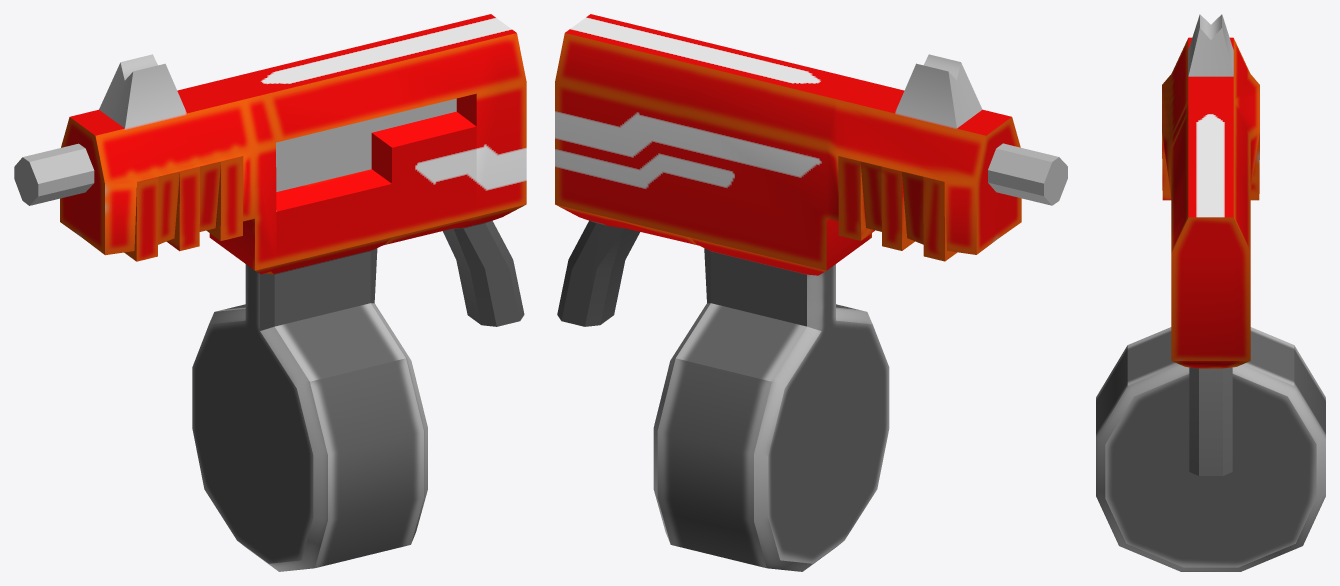
Rendered from Nerf.fbx.
3 views of the same model, side by side, from view 1: azimuth 30°, elevation 25°; view 2: azimuth 150°, elevation 25°; view 3: azimuth 270°, elevation 25° (orthographic). The views are drawn at different scales.
Visible parts, largest first — view 1: pCube2; view 2: pCube2; view 3: pCube2.
Part boxes in pixels (x1=…): pCube2: x1=14, y1=14, x2=526, y2=571; pCube2: x1=555, y1=14, x2=1067, y2=571; pCube2: x1=1096, y1=14, x2=1325, y2=571.
Size of the model in its own units: 13.28 by 13.56 by 6.15.
